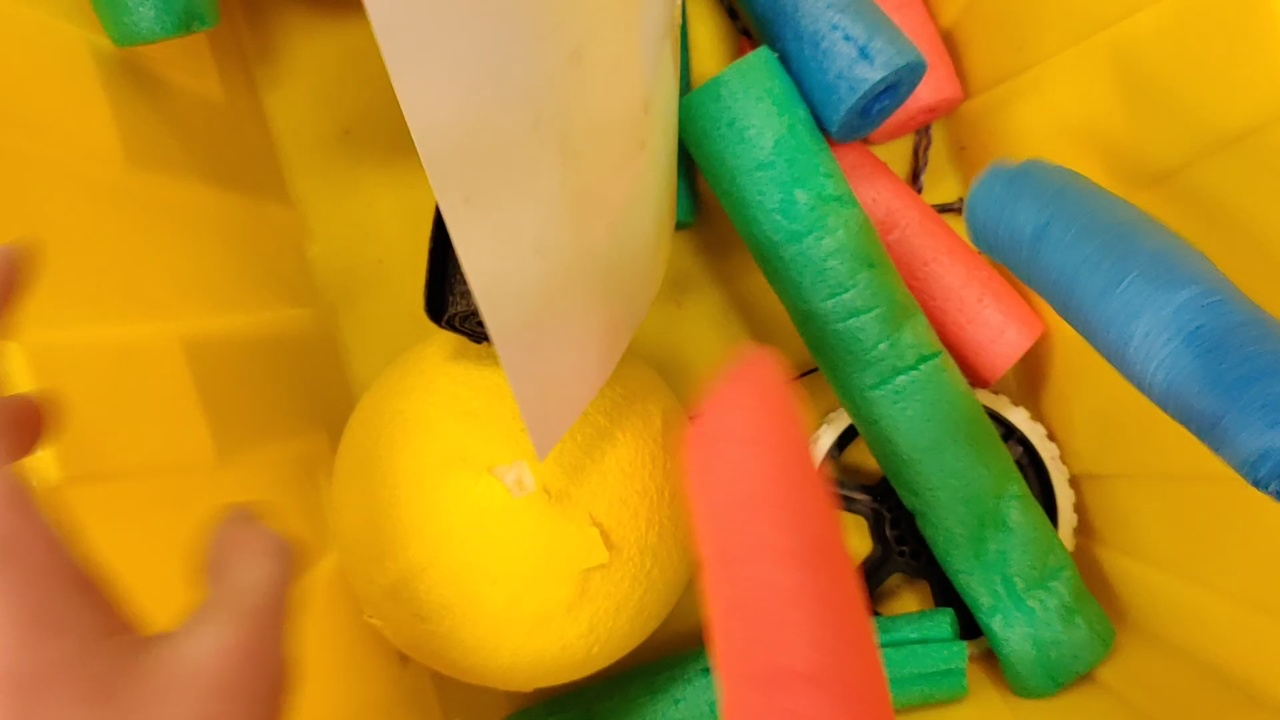Ball: (329, 329, 689, 681)
